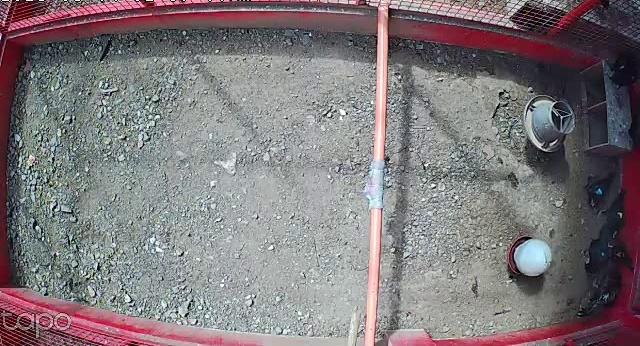Chicken: (596, 186, 629, 243), (583, 169, 617, 210), (604, 51, 640, 88)
Rooster: (575, 269, 624, 319)
Saddle_Color_Yellow: (616, 211, 624, 219)
